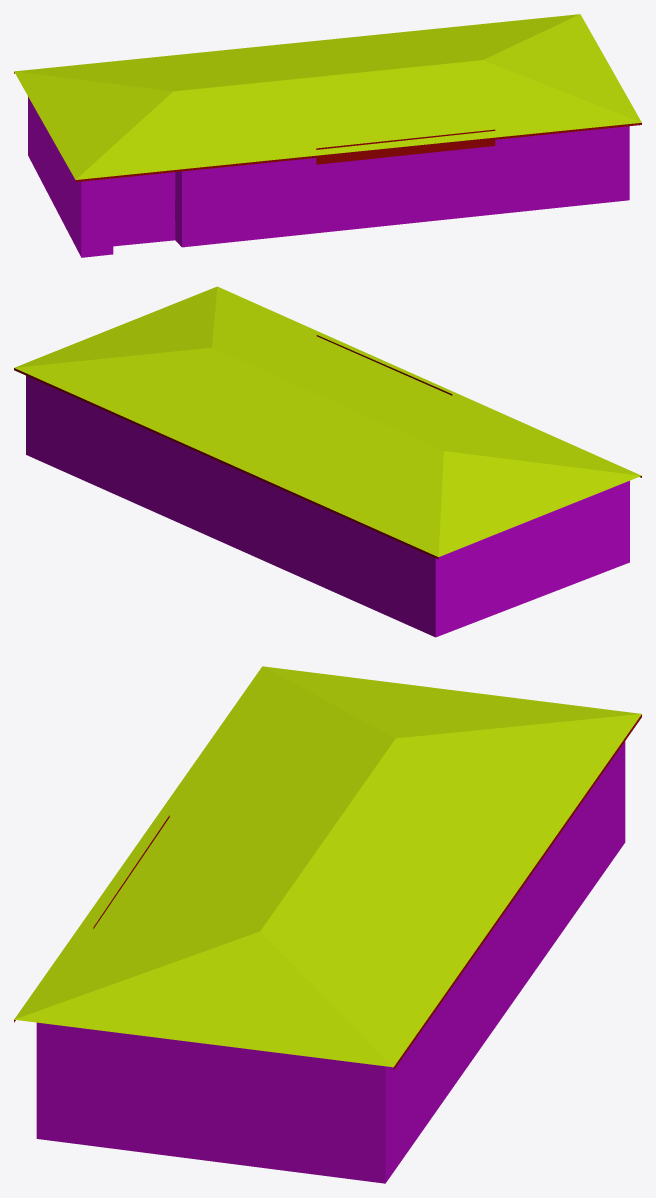
Rendered from bgj_61.glb.
3 renders of one model, top to bottom at view 1: azimuth 30°, elevation 25°; view 2: azimuth 150°, elevation 25°; view 3: azimuth 270°, elevation 25°, orthographic. The views are drawn at different scales.
Visible parts, largest first — view 1: bgj_61; view 2: bgj_61; view 3: bgj_61.
Part boxes in pixels (x1=…): bgj_61: x1=14, y1=14, x2=641, y2=257; bgj_61: x1=14, y1=286, x2=641, y2=637; bgj_61: x1=14, y1=666, x2=641, y2=1183.
Bounding box in the file's own units: 31.59 × 5.68 × 20.9.
